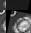mirror: (6, 10, 31, 33), (0, 0, 6, 10)
